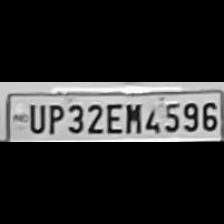2: (85, 100, 103, 134)
3: (64, 100, 84, 134)
4: (144, 101, 160, 133)
5: (159, 98, 179, 132)
6: (198, 98, 218, 132)
9: (181, 98, 199, 132)
E: (103, 100, 123, 134)
M: (122, 100, 142, 134)
P: (45, 101, 63, 135)
U: (24, 101, 46, 133)
